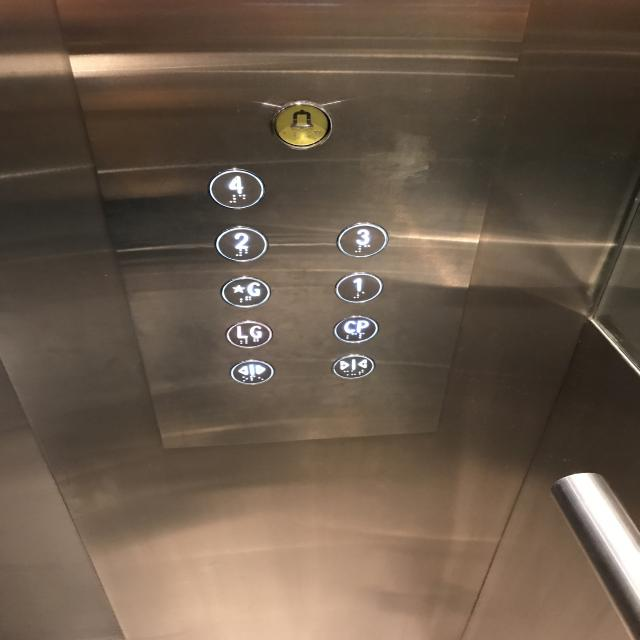1: (333, 271, 384, 303)
2: (214, 225, 268, 262)
3: (335, 222, 389, 258)
4: (207, 167, 265, 209)
CP: (332, 314, 380, 344)
LG: (224, 319, 274, 349)
alarm: (270, 99, 334, 151)
close: (331, 353, 376, 380)
open: (229, 359, 275, 385)
sG: (219, 275, 271, 308)
